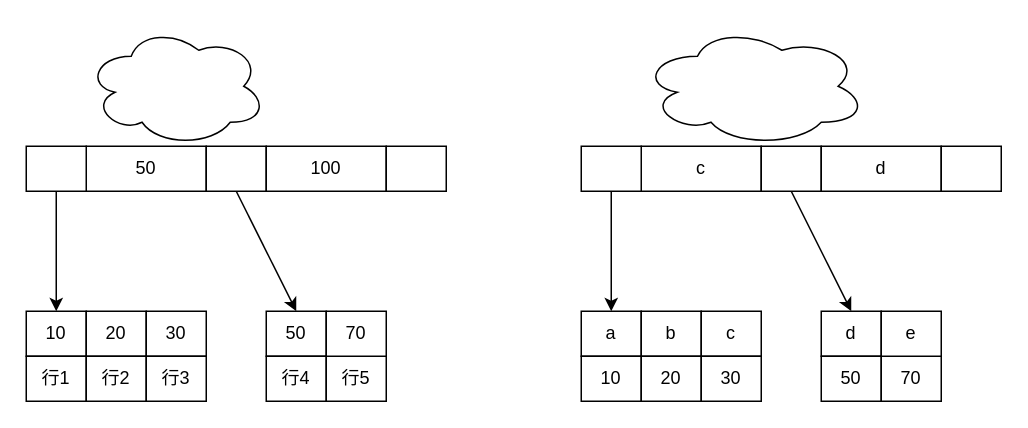
This 1028x428 diagram has some shape labels left out. Here are the shapes that lost their labels. From the top down, the centre of each, then its label:
At point (175, 85): "主键索引：id".
At point (753, 85): "非主键索引：name".
